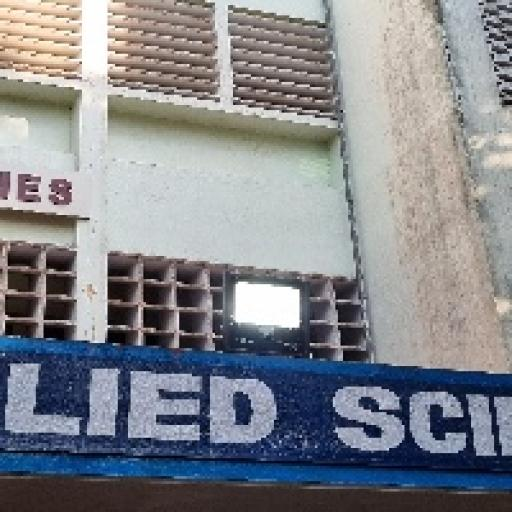Working: (216, 267, 320, 351)
